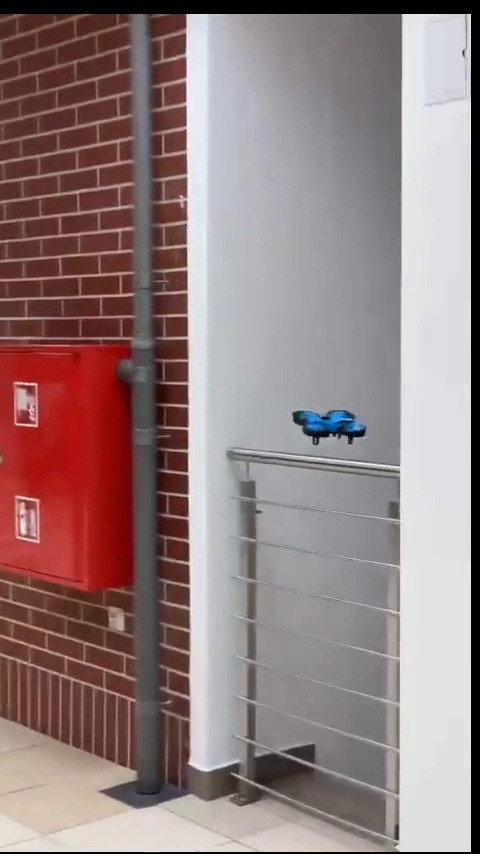drone: (297, 408, 367, 446)
